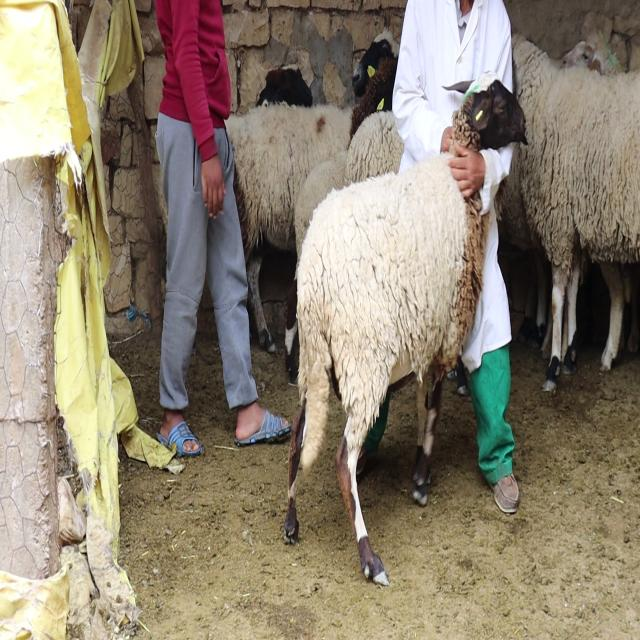Score_4: (284, 73, 525, 585)
